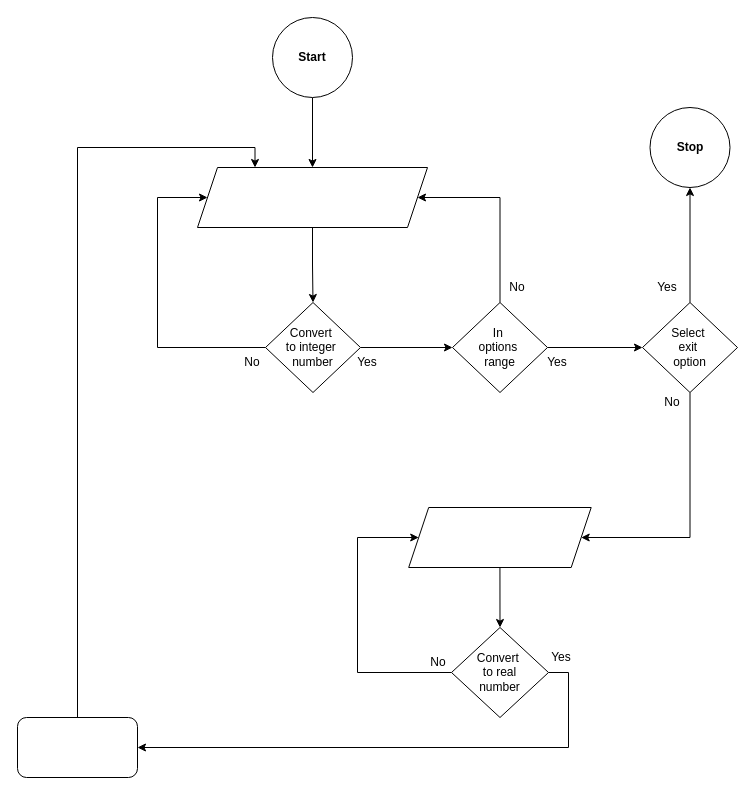
The diagram is 755 pixels wide and 795 high, and some of its shapes have lost their labels. The centre of each missing label's shape, as x and y in pixels:
Insert numbers for arithmetic operation: (x=499, y=537)
Invoke the math operation: (x=77, y=747)
Select a math operation by inserting an integer number: (x=312, y=197)
